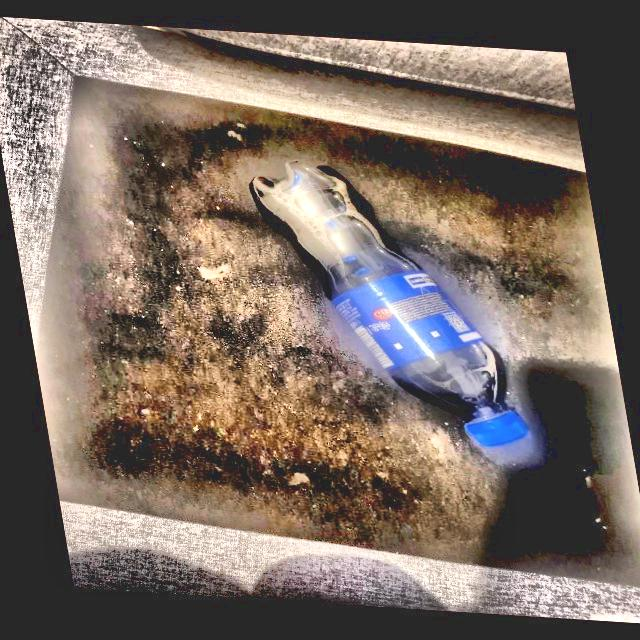pepsi-bottle: (253, 163, 535, 459)
